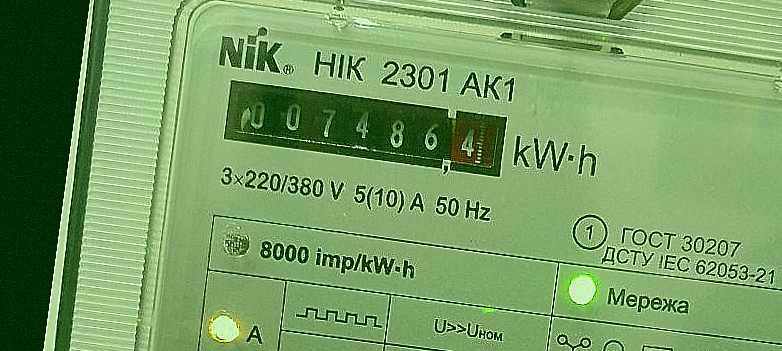0: (244, 96, 269, 132), (281, 99, 304, 134)
4: (350, 105, 372, 142), (456, 124, 478, 160)
6: (420, 119, 443, 154)
7: (313, 104, 340, 140)
8: (386, 116, 407, 153)
screen: (211, 67, 518, 190)
